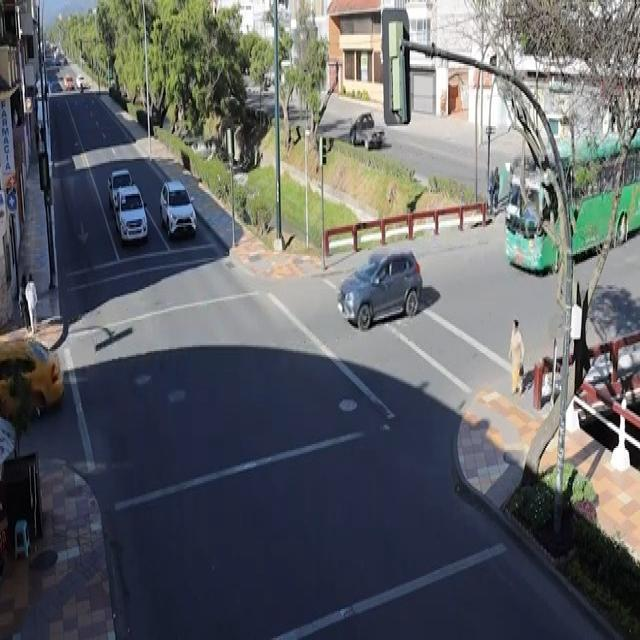BUS: (507, 153, 640, 269)
